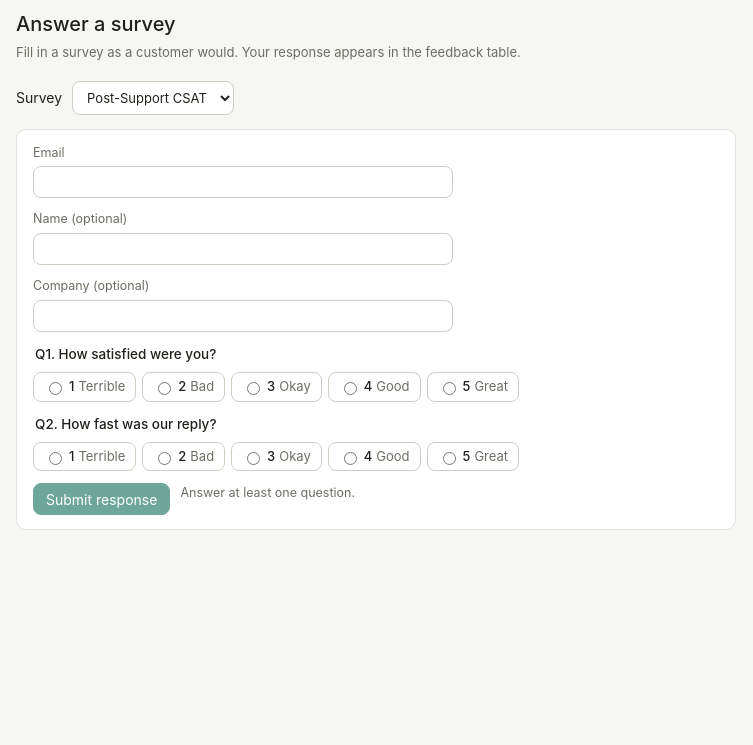
Test: RespondPage › needs at least one answer before it can be sent
Expected: the form is shown, [16,128,736,530]
Select "Onboarding CSAT" in the dropdown labelled "Survey" at point(153, 98), box [72,80,234,114]
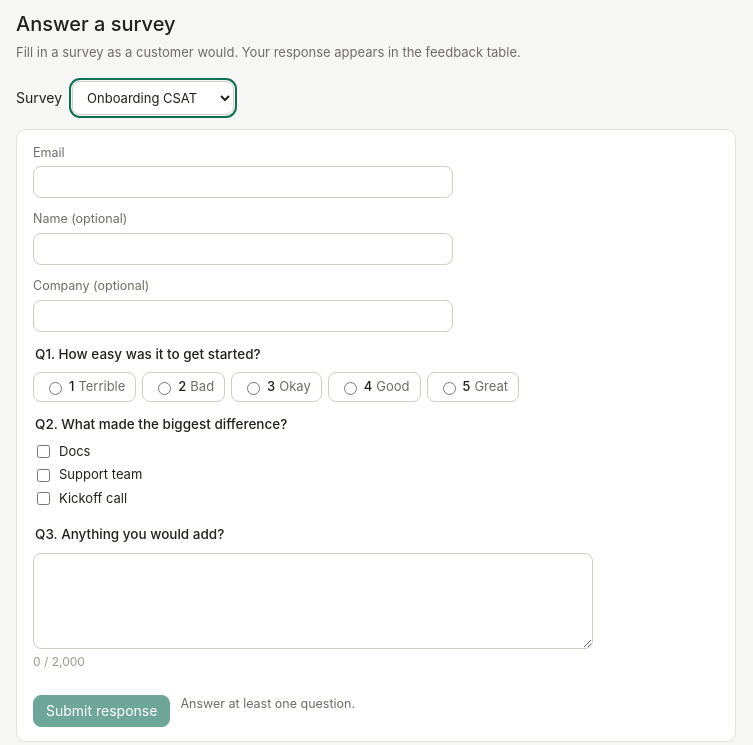
Expected: the button "Submit response" is disabled, [33,694,170,726]
Click the checkbox labelled "Docs".
click(44, 452)  # box [37,445,50,458]
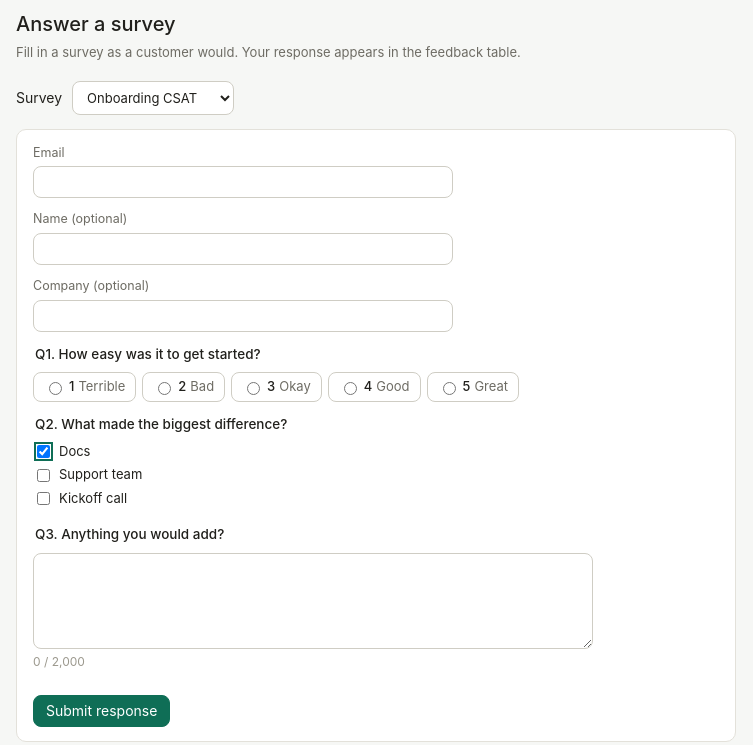
Expected: the button "Submit response" is enabled, [33,694,170,726]
